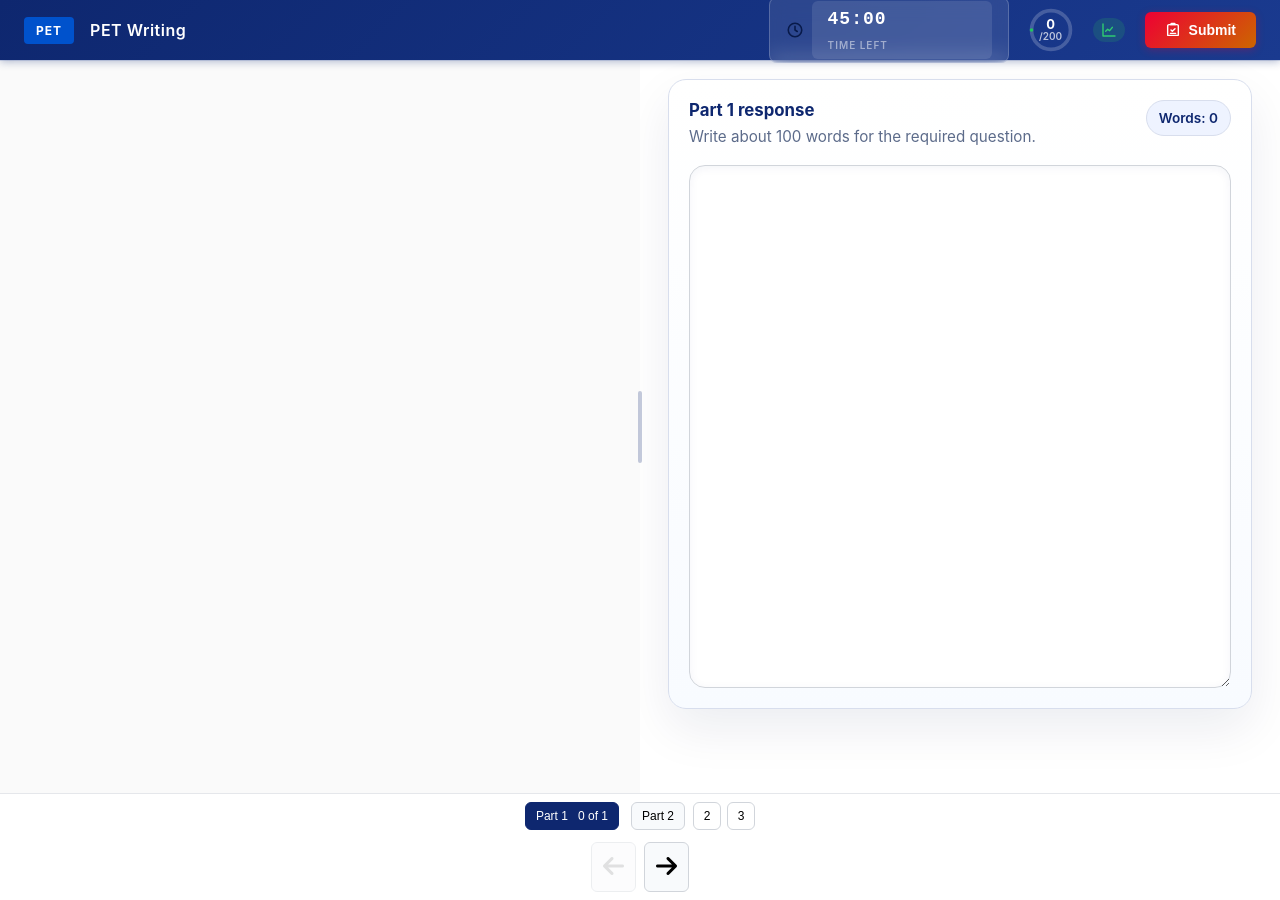
Test: PetWritingTestPage template prompt rendering › does not render the extra outer Part 2 heading for template prompts
Click the button named "Next". click: point(666, 867)
box: [644, 842, 689, 892]
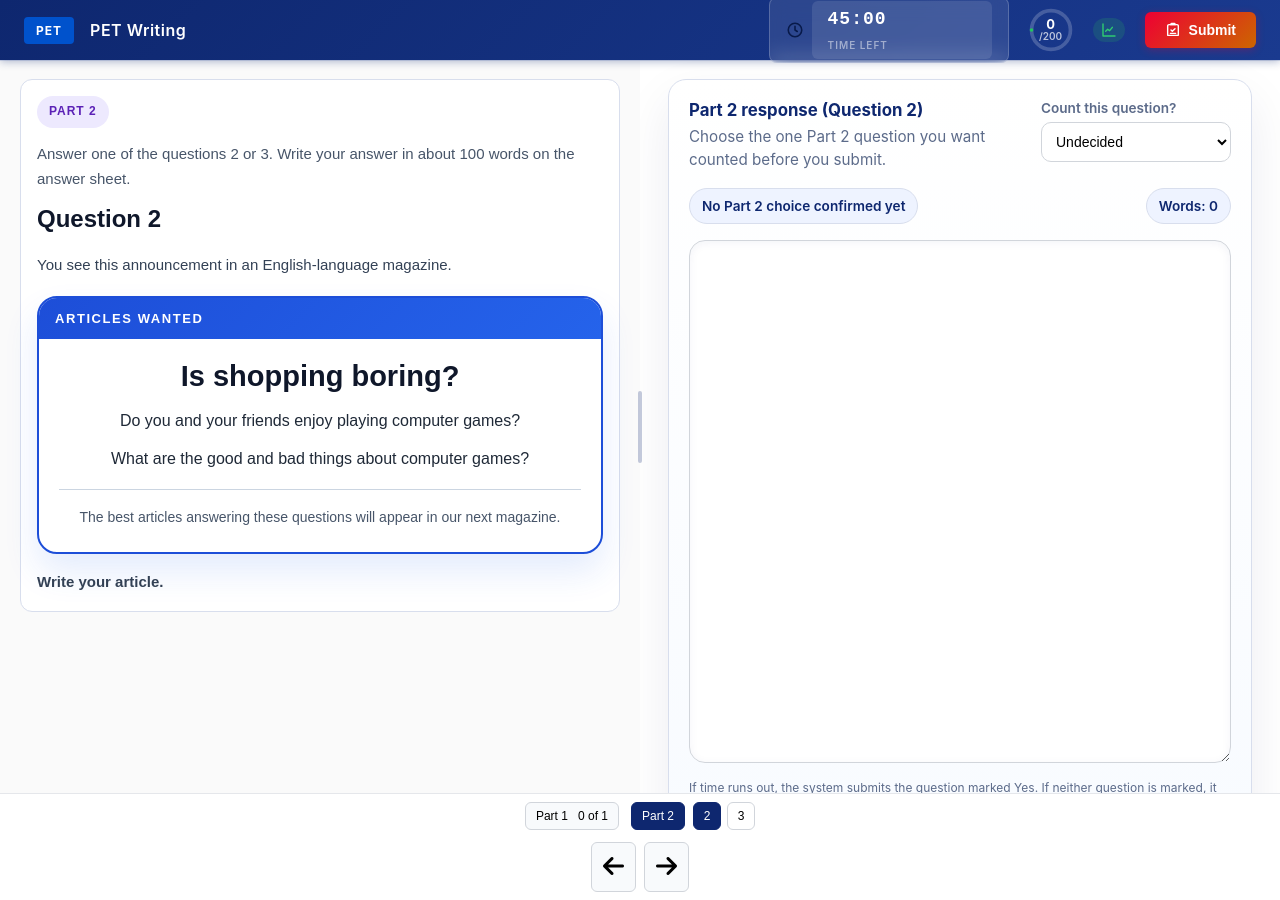
Expected: the text "Is shopping boring?" is shown, [181, 360, 459, 392]
Expected: the text "Answer one of the questions 2 or 3. Write your answer in about 100 words on the answer sheet." is shown, [37, 145, 574, 187]
